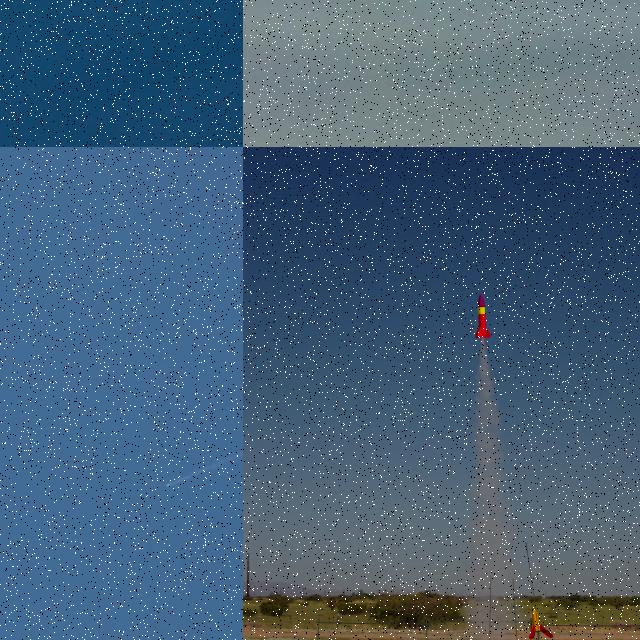Rocket: (527, 608, 553, 640), (475, 293, 492, 340), (166, 484, 168, 486)
